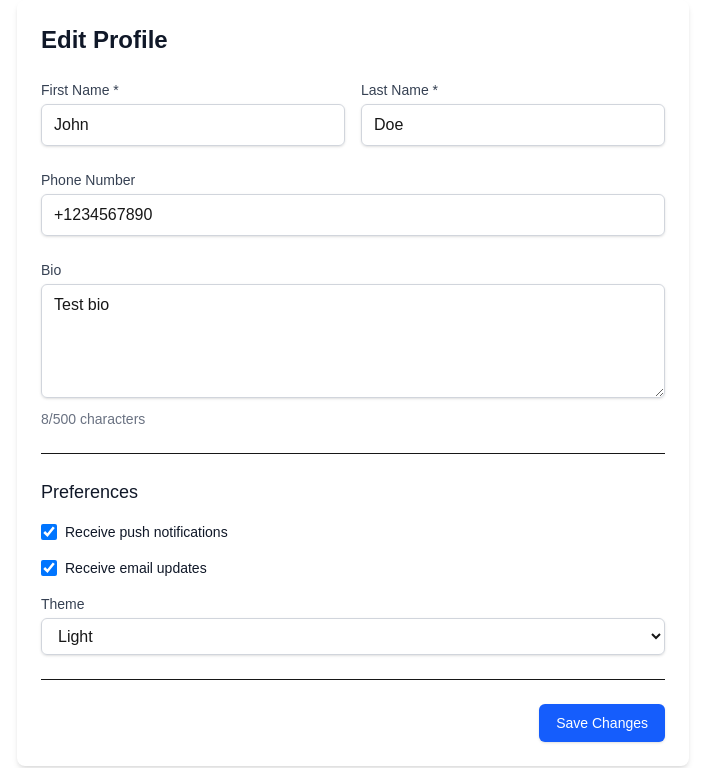
Profile Components › ProfileForm Component › should show loading state during submission
Click the button "Save Changes": coordinates (602, 723) [539,704,665,742]
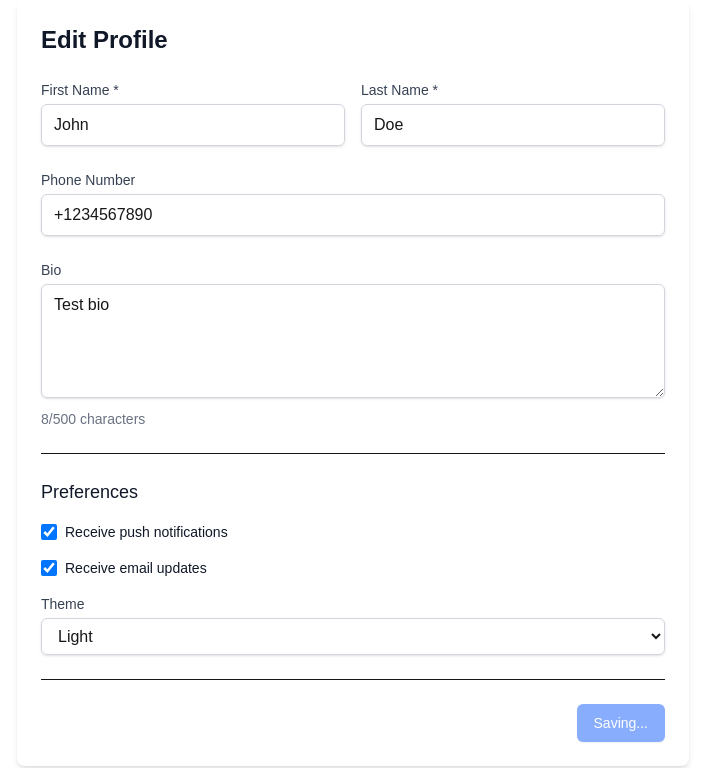
Expected: the button "Saving..." is disabled, [576,704,665,742]
